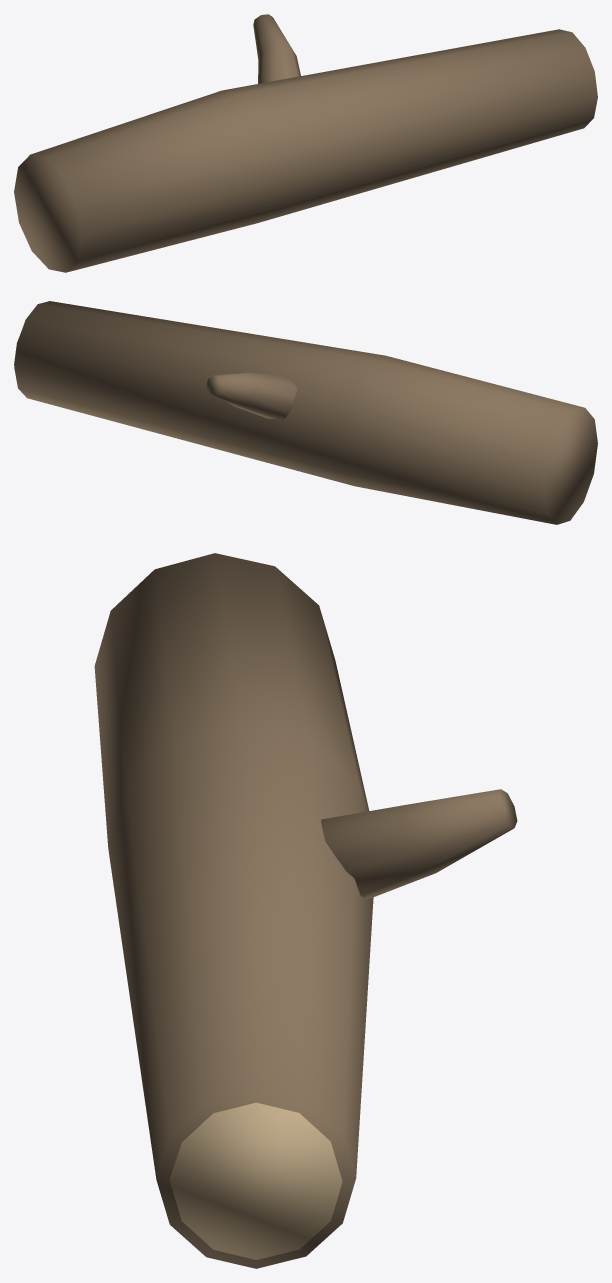
Rendered from SM_Log_UV_0912.fbx.
3 renders of one model, top to bottom at view 1: azimuth 30°, elevation 25°; view 2: azimuth 150°, elevation 25°; view 3: azimuth 270°, elevation 25°, orthographic. The views are drawn at different scales.
Parts seen in each view (by area): view 1: SM_Log_UV_0912; view 2: SM_Log_UV_0912; view 3: SM_Log_UV_0912.
Part boxes in pixels (<box>): SM_Log_UV_0912: <box>14,14,597,272</box>; SM_Log_UV_0912: <box>14,301,597,524</box>; SM_Log_UV_0912: <box>94,553,517,1268</box>.
Size of the model in its own units: 354 by 123 by 84.06.
